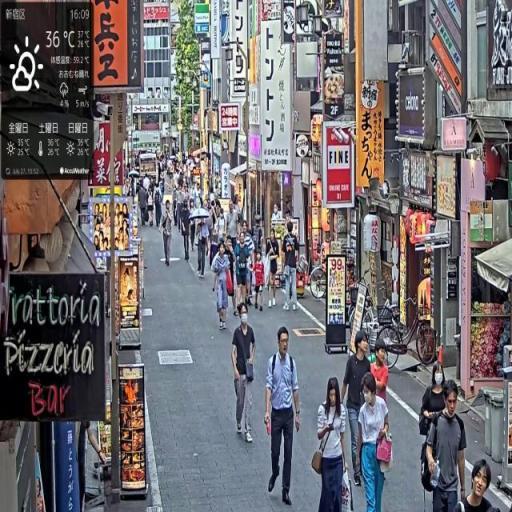person: (265, 324, 303, 510), (420, 380, 469, 512), (312, 377, 356, 512), (341, 330, 374, 491), (356, 372, 393, 512), (231, 301, 258, 443), (212, 240, 235, 333), (282, 223, 300, 314), (236, 232, 252, 314), (267, 230, 281, 308), (253, 249, 268, 315), (161, 199, 175, 268), (154, 181, 163, 230)
